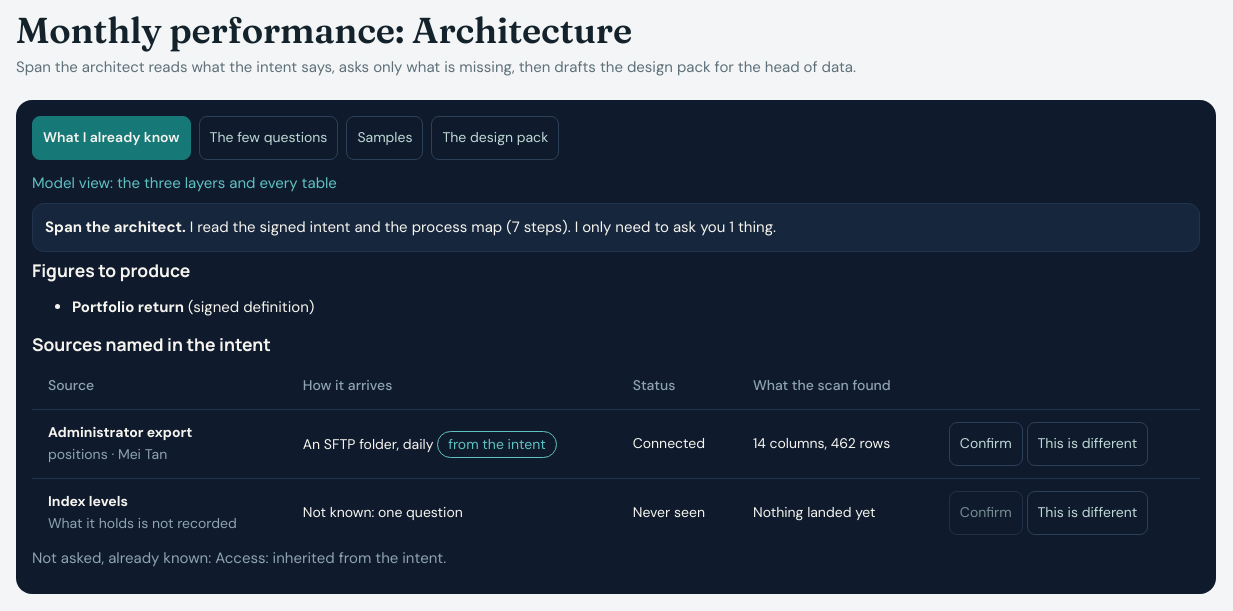
Architecture step (V6 H1-H6) › offers to draft the pack when there is none
The width and height of the screenshot is (1233, 611).
Click the button "The design pack".
click(495, 138)  # box left=432, top=116, right=559, bottom=160
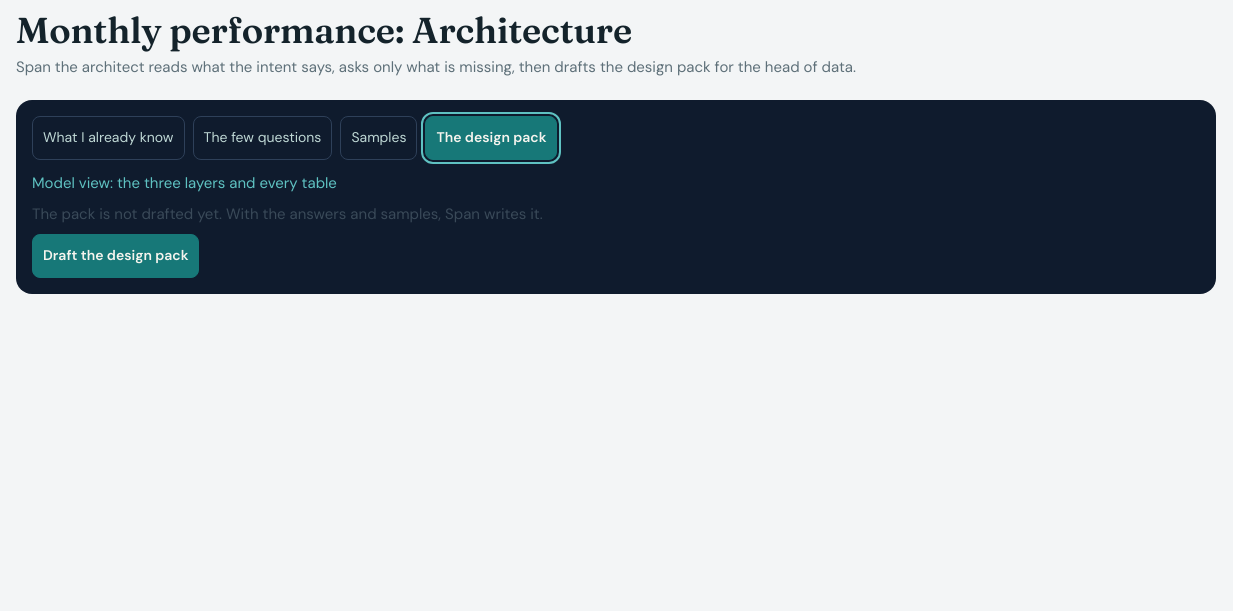
Now the button "Draft the design pack" is shown, box left=32, top=234, right=200, bottom=278
